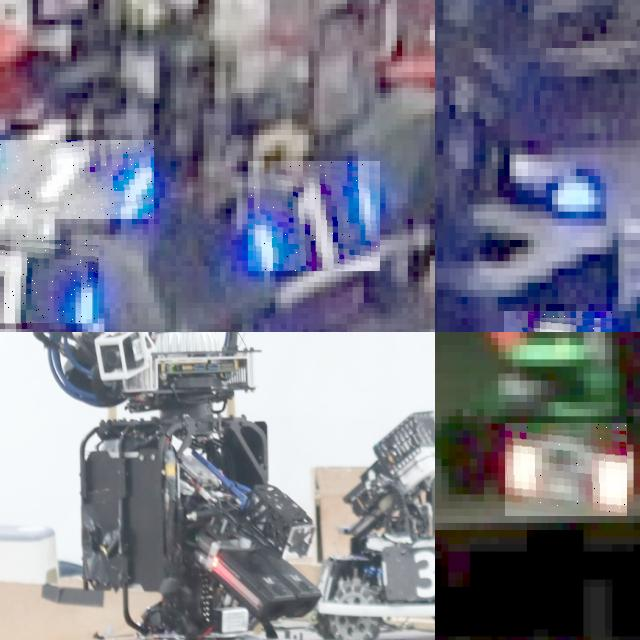B1: (248, 162, 380, 272), (0, 140, 153, 218), (0, 234, 98, 323)
Rs: (505, 423, 627, 516)
